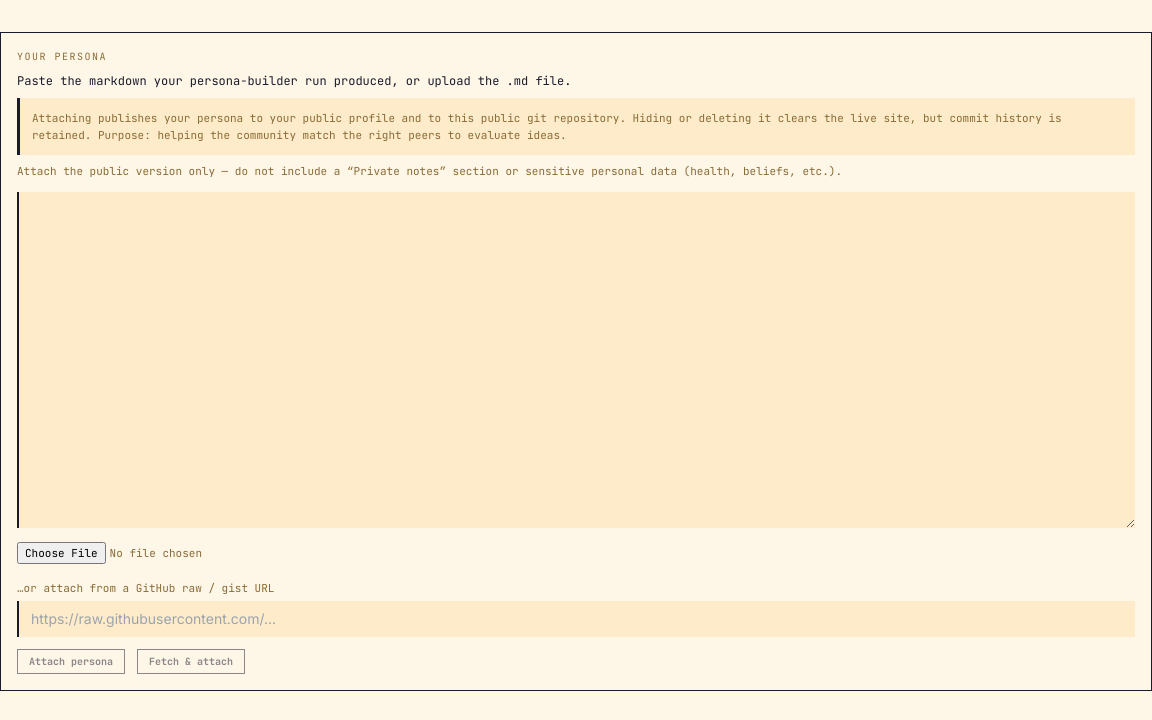
Test: PersonaEditor — URL attach (v0.12) › renders the per-kind message for invalid_url
In the field labelled "…or attach from a GitHub raw / gist URL": (576, 618) [17,600,1135,636], type "https://raw.githubusercontent.com/x/y/main/z.md"
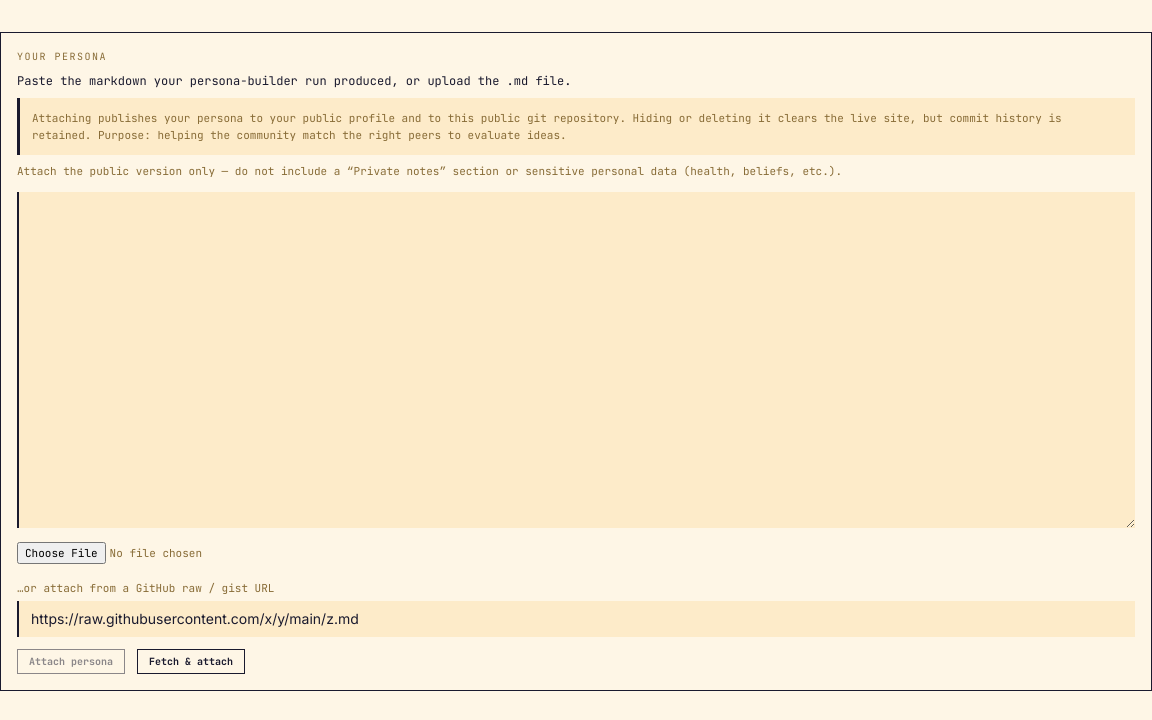
Click the button "Fetch & attach": click(191, 661) [137,648,245,674]
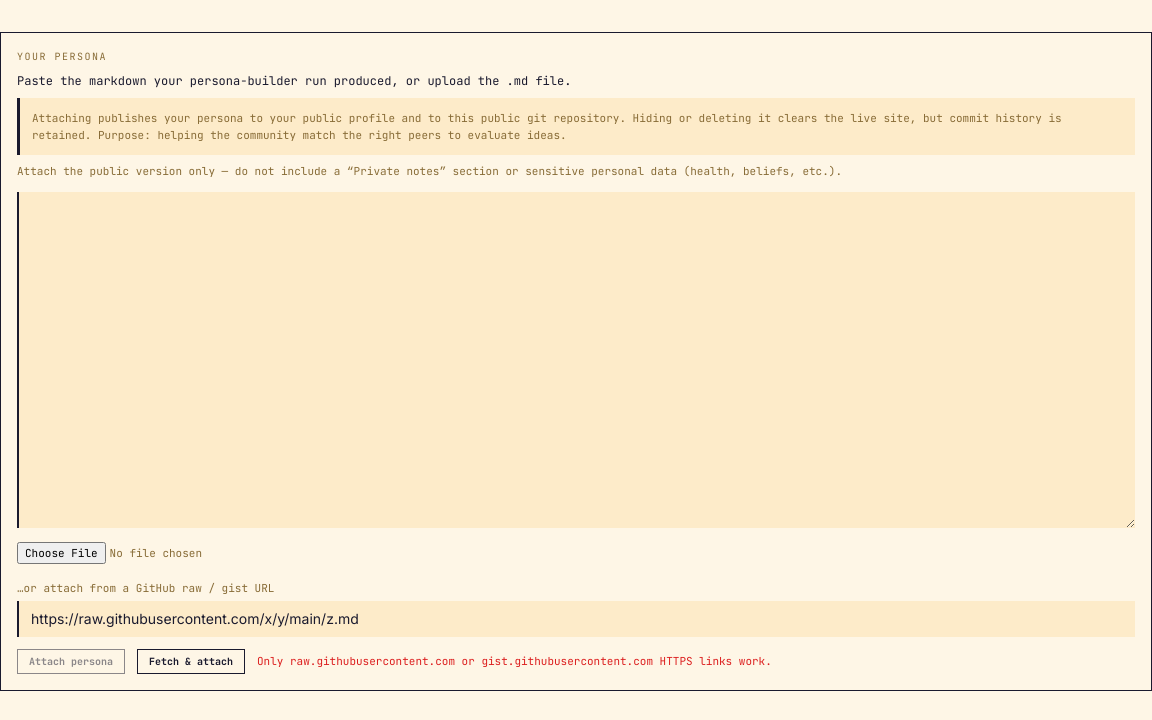
Expected: the text "Only raw.githubusercontent.com or gist.githubusercontent.com HTTPS links work." is shown, [257,653,772,669]
